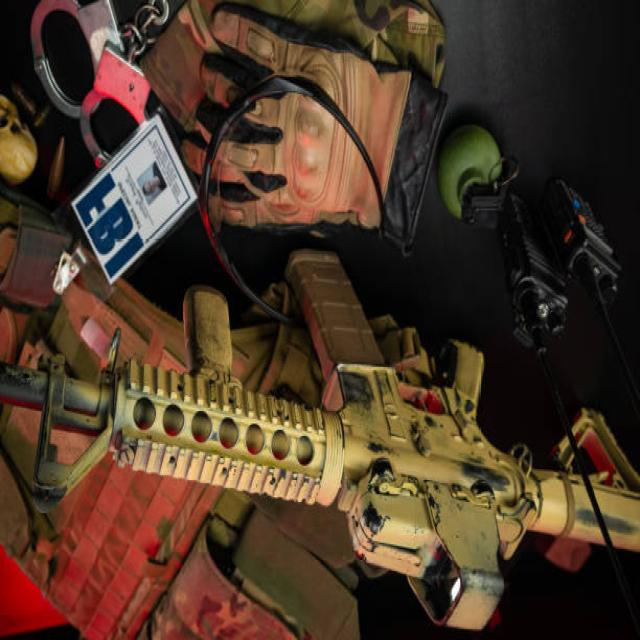grenade: (439, 116, 525, 230)
